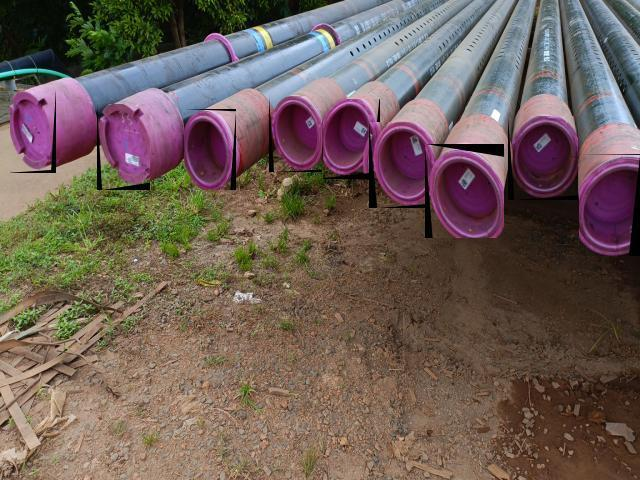pipe: (425, 144, 504, 238), (579, 154, 640, 256), (508, 115, 578, 200), (369, 122, 434, 208), (323, 100, 380, 180), (97, 104, 150, 190), (184, 109, 236, 190), (269, 96, 322, 172), (10, 91, 56, 173)
